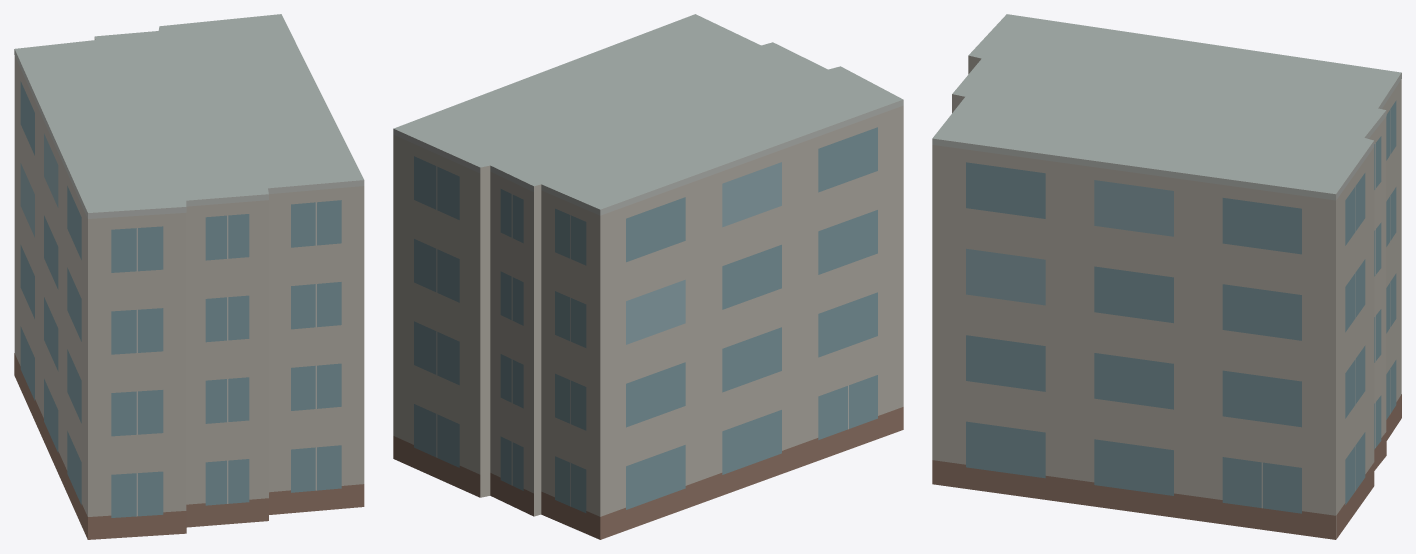
File: survey-upis-32683884.glb
3 views of the same model, side by side, from view 1: azimuth 30°, elevation 25°; view 2: azimuth 150°, elevation 25°; view 3: azimuth 270°, elevation 25° (orthographic). The views are drawn at different scales.
Parts seen in each view (by area): view 1: survey-upis-32683884.tmp; view 2: survey-upis-32683884.tmp; view 3: survey-upis-32683884.tmp.
Part boxes in pixels (box(x1,y1,x2,y2)): survey-upis-32683884.tmp: box(14, 14, 364, 539); survey-upis-32683884.tmp: box(393, 14, 903, 539); survey-upis-32683884.tmp: box(932, 14, 1401, 539).
Size of the model in its own units: 14.99 by 13.4 by 16.51.
